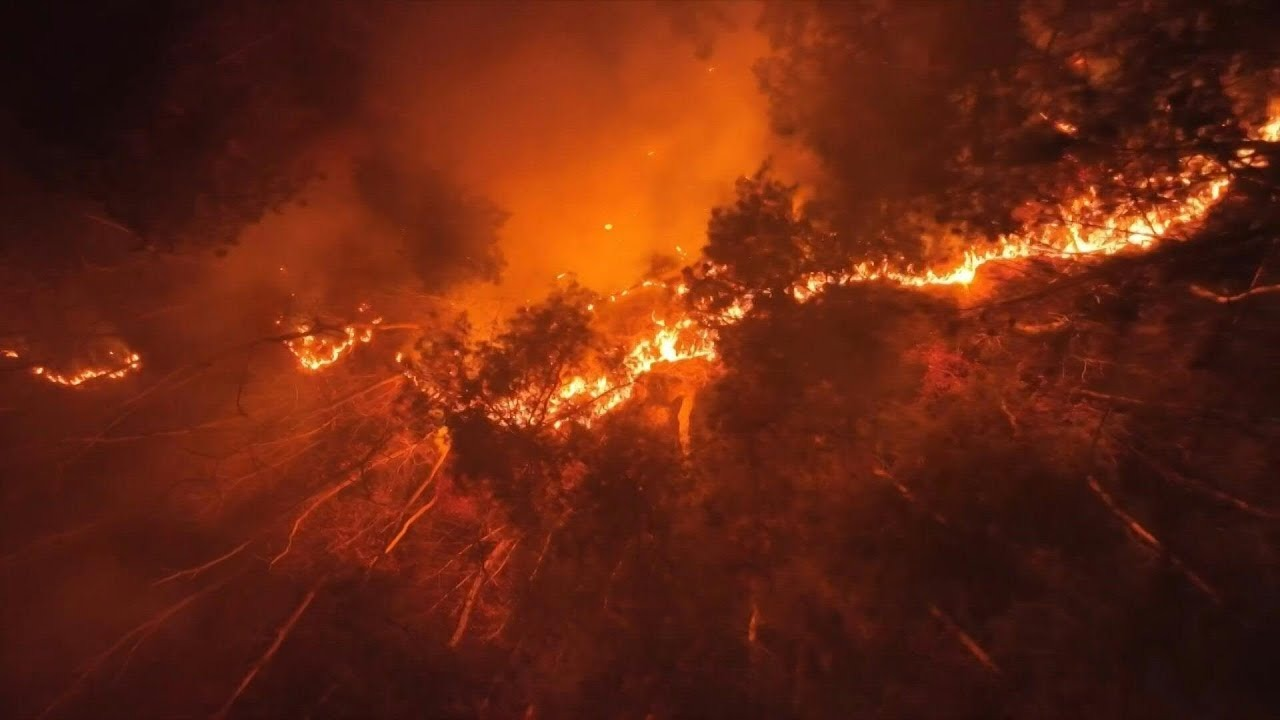forest_fire: (787, 165, 1229, 300), (545, 317, 716, 425), (283, 318, 408, 371), (30, 352, 141, 387), (1254, 103, 1279, 141)
